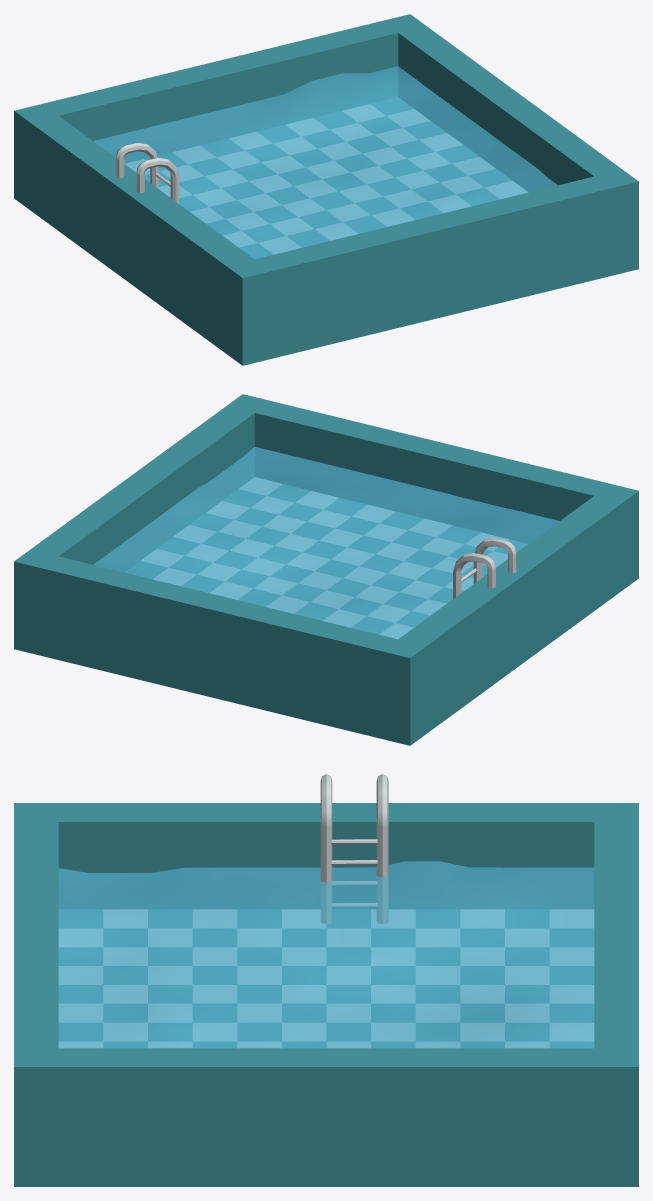
The model's file is Pool.fbx.
3 renders of one model, top to bottom at view 1: azimuth 30°, elevation 25°; view 2: azimuth 150°, elevation 25°; view 3: azimuth 270°, elevation 25°, orthographic. The views are drawn at different scales.
Visible parts, largest first — view 1: pCylinder8; view 2: pCylinder8; view 3: pCylinder8.
Part boxes in pixels (x1,y1,x2,y2): pCylinder8: (14, 14, 638, 365); pCylinder8: (14, 394, 638, 745); pCylinder8: (14, 774, 638, 1186).
Size of the model in its own units: 2.73 by 0.772 by 2.73.
